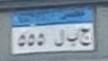5: (36, 32, 46, 47), (16, 33, 26, 48), (27, 33, 35, 48)
baa: (66, 32, 79, 48)
jeem: (80, 26, 91, 49)
laam: (53, 27, 65, 49)
